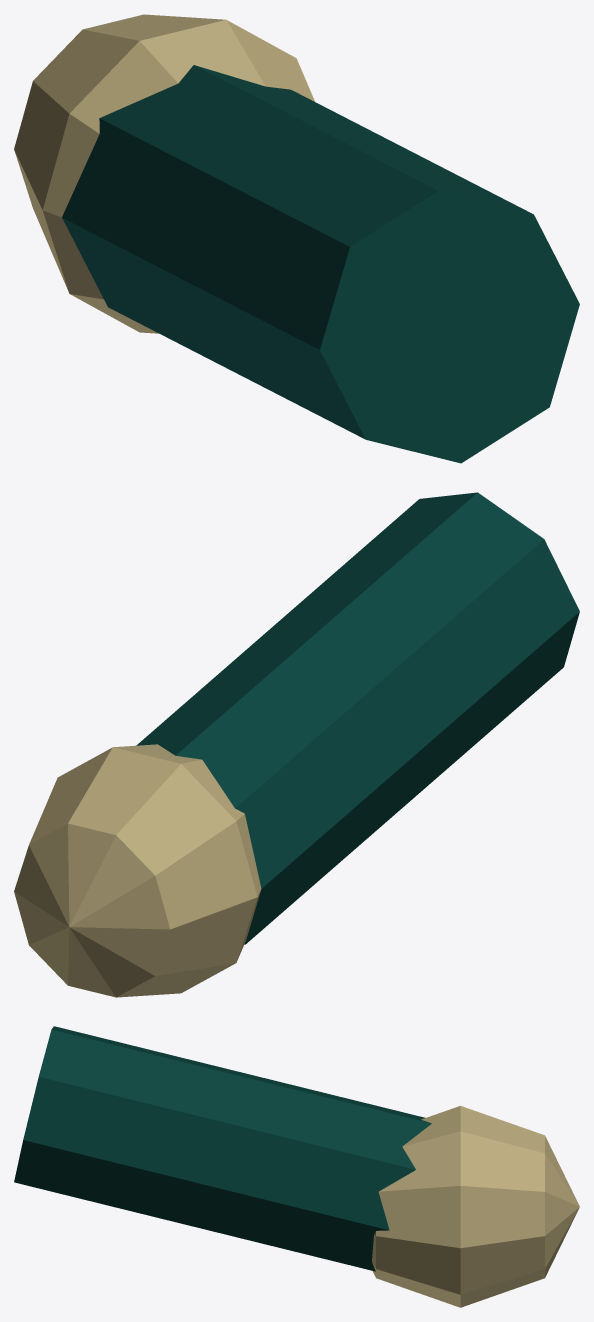
Rendered from Resident0RightArm.obj.
3 views of the same model, one above another, from view 1: azimuth 30°, elevation 25°; view 2: azimuth 150°, elevation 25°; view 3: azimuth 270°, elevation 25° (orthographic). The views are drawn at different scales.
Visible parts, largest first — view 1: Resident0RightArm; view 2: Resident0RightArm; view 3: Resident0RightArm.
Boxes of the visible parts, box(x1,y1,x2,y2) form: Resident0RightArm: box(14, 14, 579, 463); Resident0RightArm: box(14, 492, 579, 997); Resident0RightArm: box(14, 1026, 579, 1307).
Bounding box in the file's own units: 28.42 × 31.2 × 66.34.
